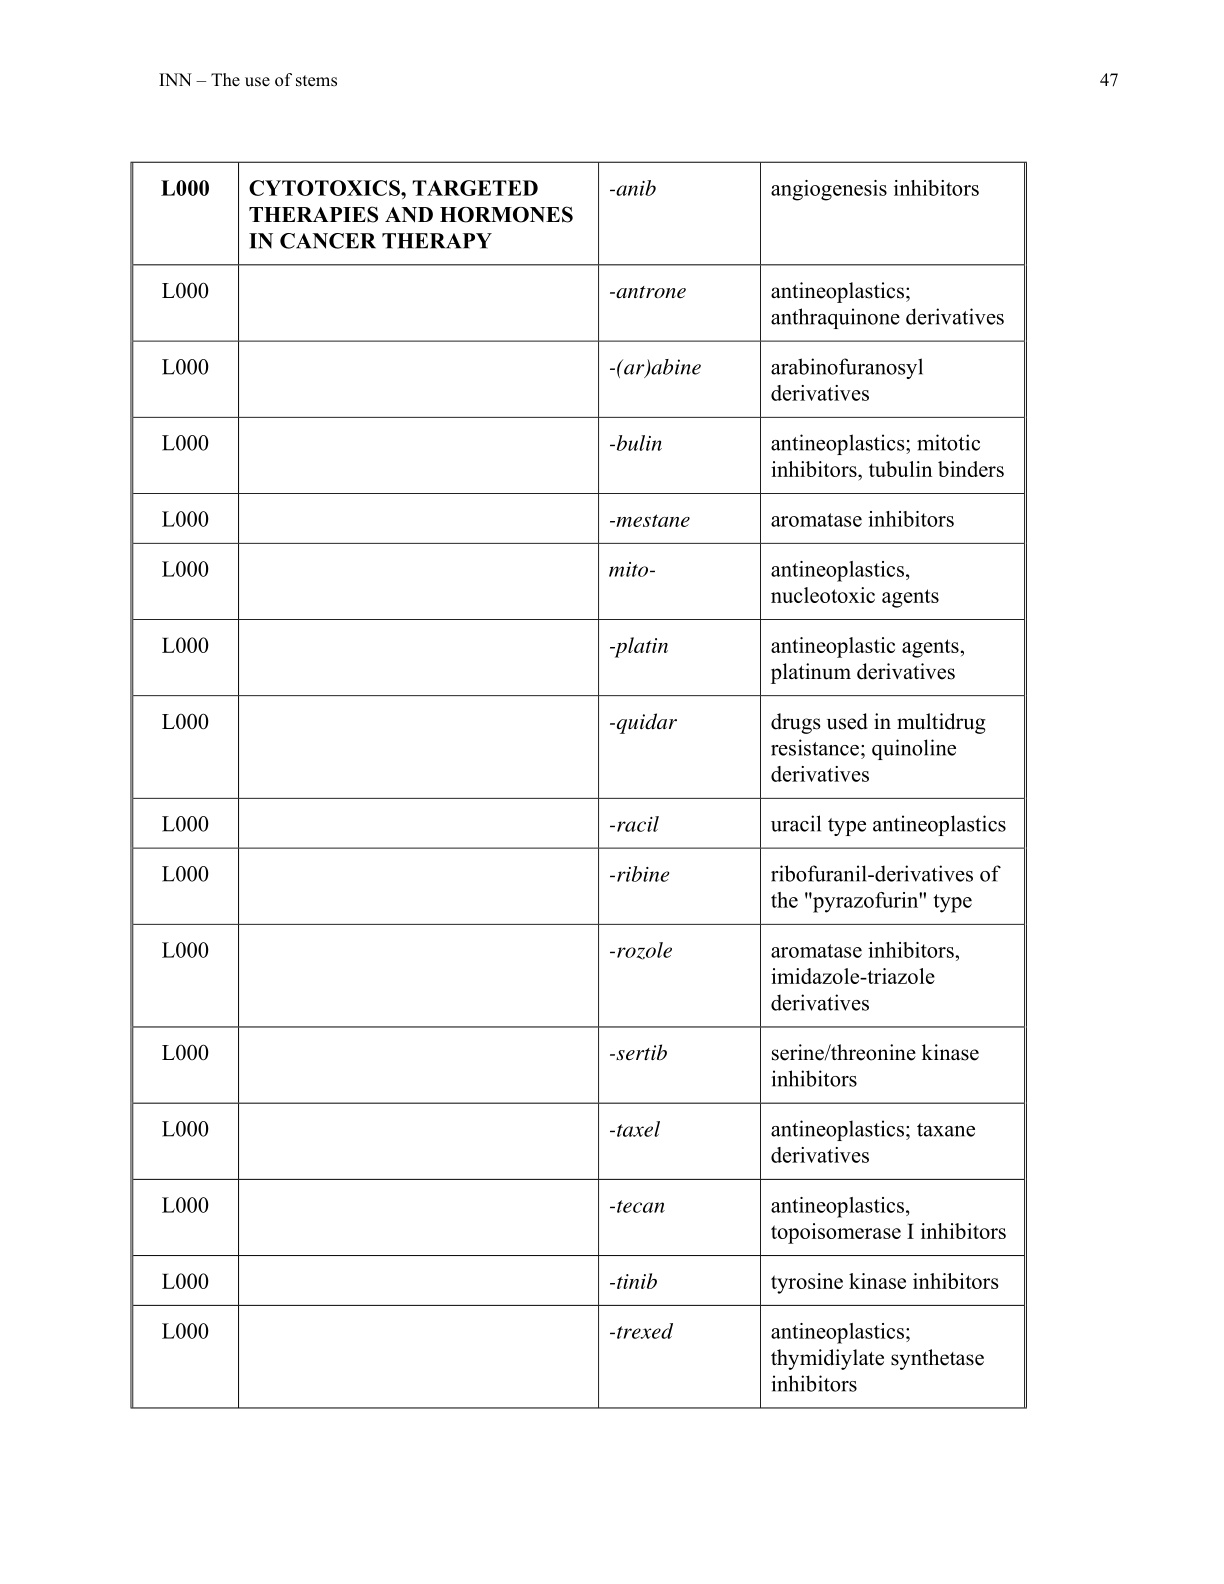full_lined: (130, 159, 1029, 1410)
